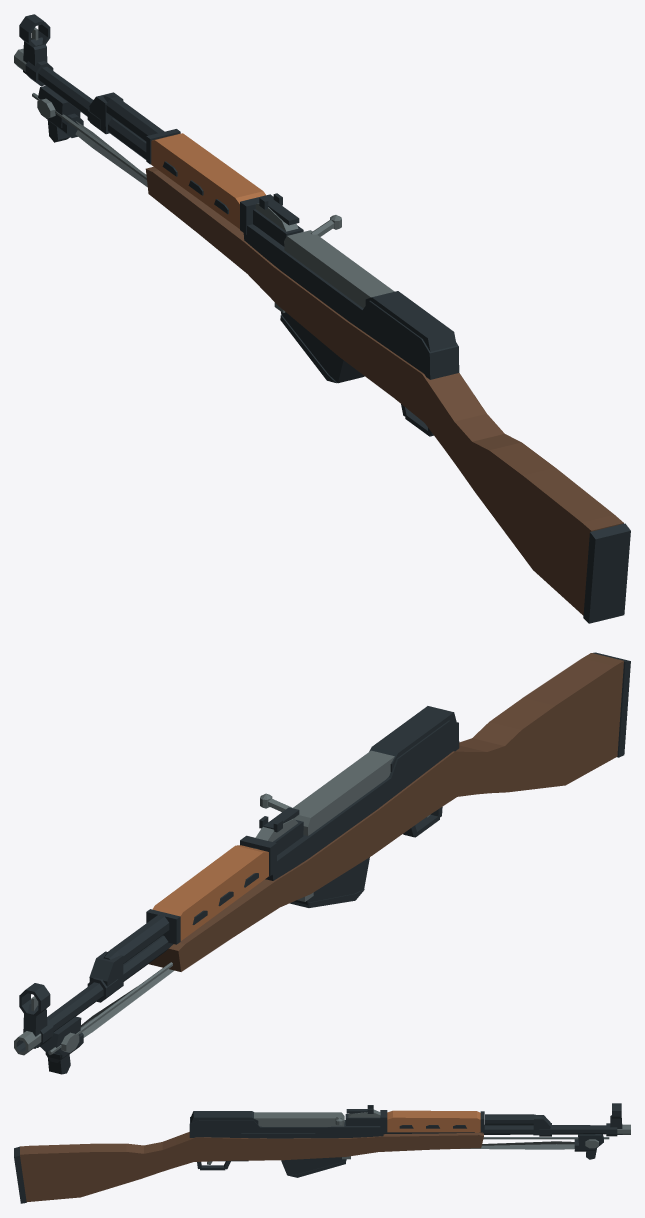
File: SKS.glb
3 renders of one model, top to bottom at view 1: azimuth 30°, elevation 25°; view 2: azimuth 150°, elevation 25°; view 3: azimuth 270°, elevation 25°, orthographic. The views are drawn at different scales.
Visible parts, largest first — view 1: Wood_stock_0, Receiver_4, Upper_wood_handguard_15, Butt_plate_3, Bolt_carrier_7, Receiver_cover_5, Barrel_13, Fixed_magazine_28, Exposed_gas_tube_25; view 2: Wood_stock_0, Receiver_4, Upper_wood_handguard_15, Bolt_carrier_7, Receiver_cover_5, Barrel_13, Exposed_gas_tube_25, Fixed_magazine_28, Gas_block_26, Folded_bayonet_blade_50, Butt_plate_3, Bayonet_mount_52 (+1 smaller); view 3: Wood_stock_0, Receiver_4, Upper_wood_handguard_15, Bolt_carrier_7, Barrel_13, Folded_bayonet_blade_50, Fixed_magazine_28, Exposed_gas_tube_25, Receiver_cover_5, Butt_plate_3, Rear_sight_base_38, Cleaning_rod_55 (+6 smaller).
Part boxes in pixels (x1,y1,x2,y2): Wood_stock_0: (145,166,623,615); Receiver_4: (243,224,459,379); Upper_wood_handguard_15: (151,133,265,228); Butt_plate_3: (583,523,630,623); Bolt_carrier_7: (284,230,394,308); Receiver_cover_5: (365,291,456,351); Barrel_13: (38,66,146,159); Fixed_magazine_28: (281,312,364,383); Exposed_gas_tube_25: (103,94,164,141); Wood_stock_0: (149,653,623,971); Receiver_4: (265,720,459,880); Upper_wood_handguard_15: (152,845,268,940); Bolt_carrier_7: (293,750,394,835); Receiver_cover_5: (369,706,456,771); Barrel_13: (47,935,173,1032); Exposed_gas_tube_25: (103,915,169,963); Fixed_magazine_28: (294,857,369,904); Gas_block_26: (89,951,123,997); Folded_bayonet_blade_50: (80,969,174,1037); Butt_plate_3: (593,652,630,757); Bayonet_mount_52: (40,1016,81,1055); Wood_stock_0: (20,1132,483,1201); Receiver_4: (189,1117,383,1138); Upper_wood_handguard_15: (387,1110,482,1132); Bolt_carrier_7: (254,1112,344,1126); Barrel_13: (383,1125,606,1134); Folded_bayonet_blade_50: (460,1141,574,1149); Fixed_magazine_28: (281,1157,346,1175); Exposed_gas_tube_25: (485,1114,541,1125); Receiver_cover_5: (191,1111,258,1124); Butt_plate_3: (14,1146,26,1203); Rear_sight_base_38: (345,1114,380,1125); Cleaning_rod_55: (483,1137,609,1139).
Size of the model in its own units: 0.08 by 0.2405 by 1.42.
